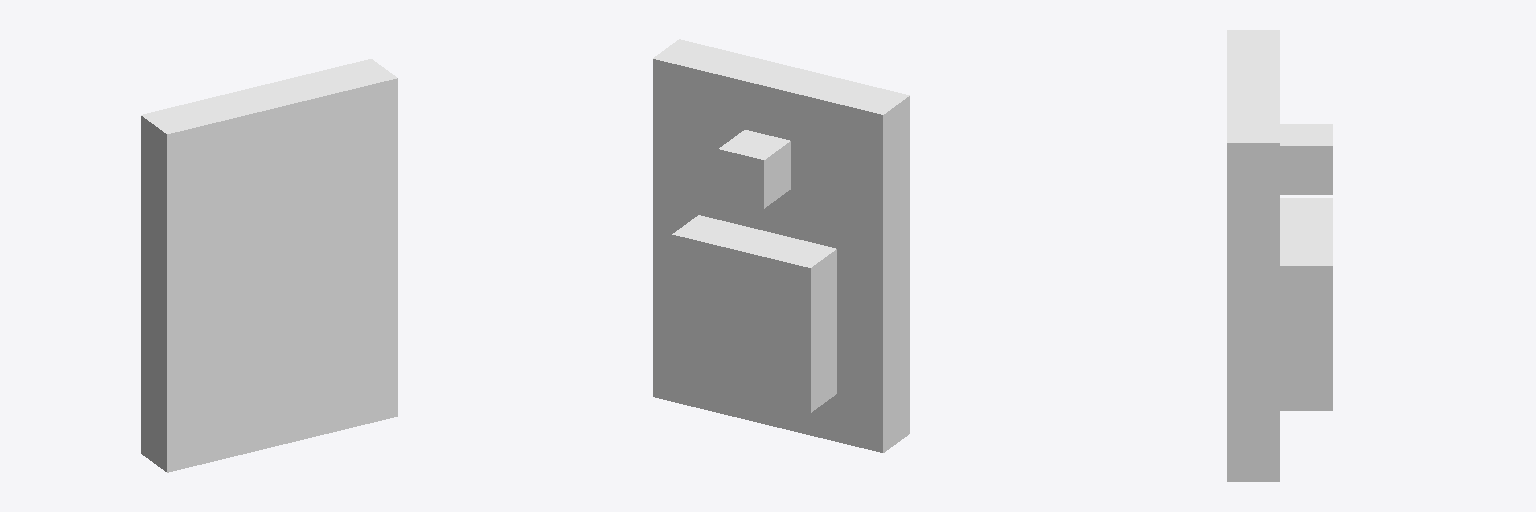
Rendered from interphone.obj.
3 renders of one model, left to right at view 1: azimuth 30°, elevation 25°; view 2: azimuth 150°, elevation 25°; view 3: azimuth 270°, elevation 25°, orthographic.
Visible parts, largest first — view 1: interphone; view 2: interphone; view 3: interphone.
Part boxes in pixels (x1,y1,x2,y2): interphone: (141, 59, 397, 472); interphone: (653, 39, 909, 452); interphone: (1227, 30, 1332, 481).
Size of the model in its own units: 5 by 7 by 2.